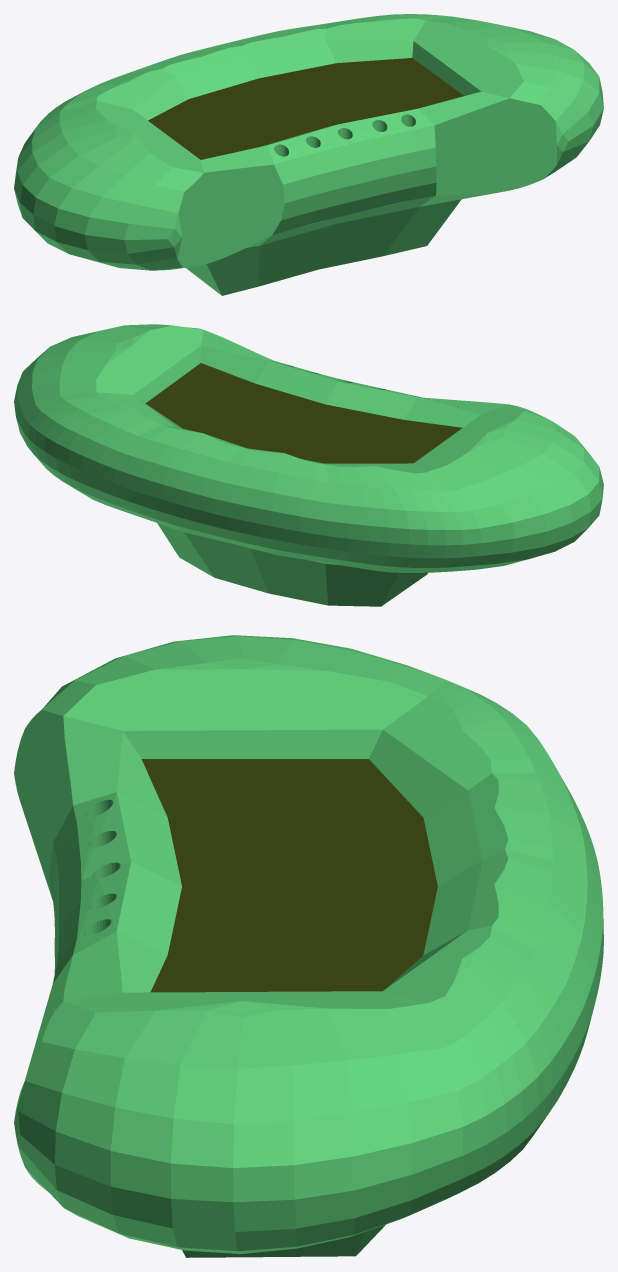
The model's file is stage.fbx.
3 views of the same model, one above another, from view 1: azimuth 30°, elevation 25°; view 2: azimuth 150°, elevation 25°; view 3: azimuth 270°, elevation 25° (orthographic). The views are drawn at different scales.
Visible parts, largest first — view 1: Cube; view 2: Cube; view 3: Cube.
Boxes of the visible parts, left/top/right/bottom form: Cube: left=14, top=14, right=603, bottom=295; Cube: left=14, top=324, right=603, bottom=606; Cube: left=14, top=635, right=603, bottom=1257.
Size of the model in its own units: 1730 by 517 by 829.
